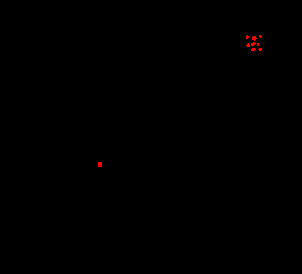Target: (252, 36, 257, 41), (251, 42, 256, 46), (98, 162, 102, 167), (246, 43, 250, 47), (251, 48, 256, 51), (246, 35, 249, 39), (258, 48, 262, 51), (259, 35, 262, 38), (257, 43, 259, 46)
